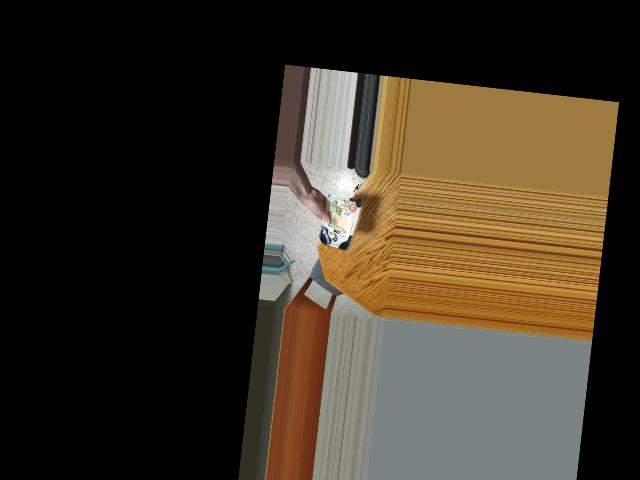cheese: (320, 197, 356, 249)
